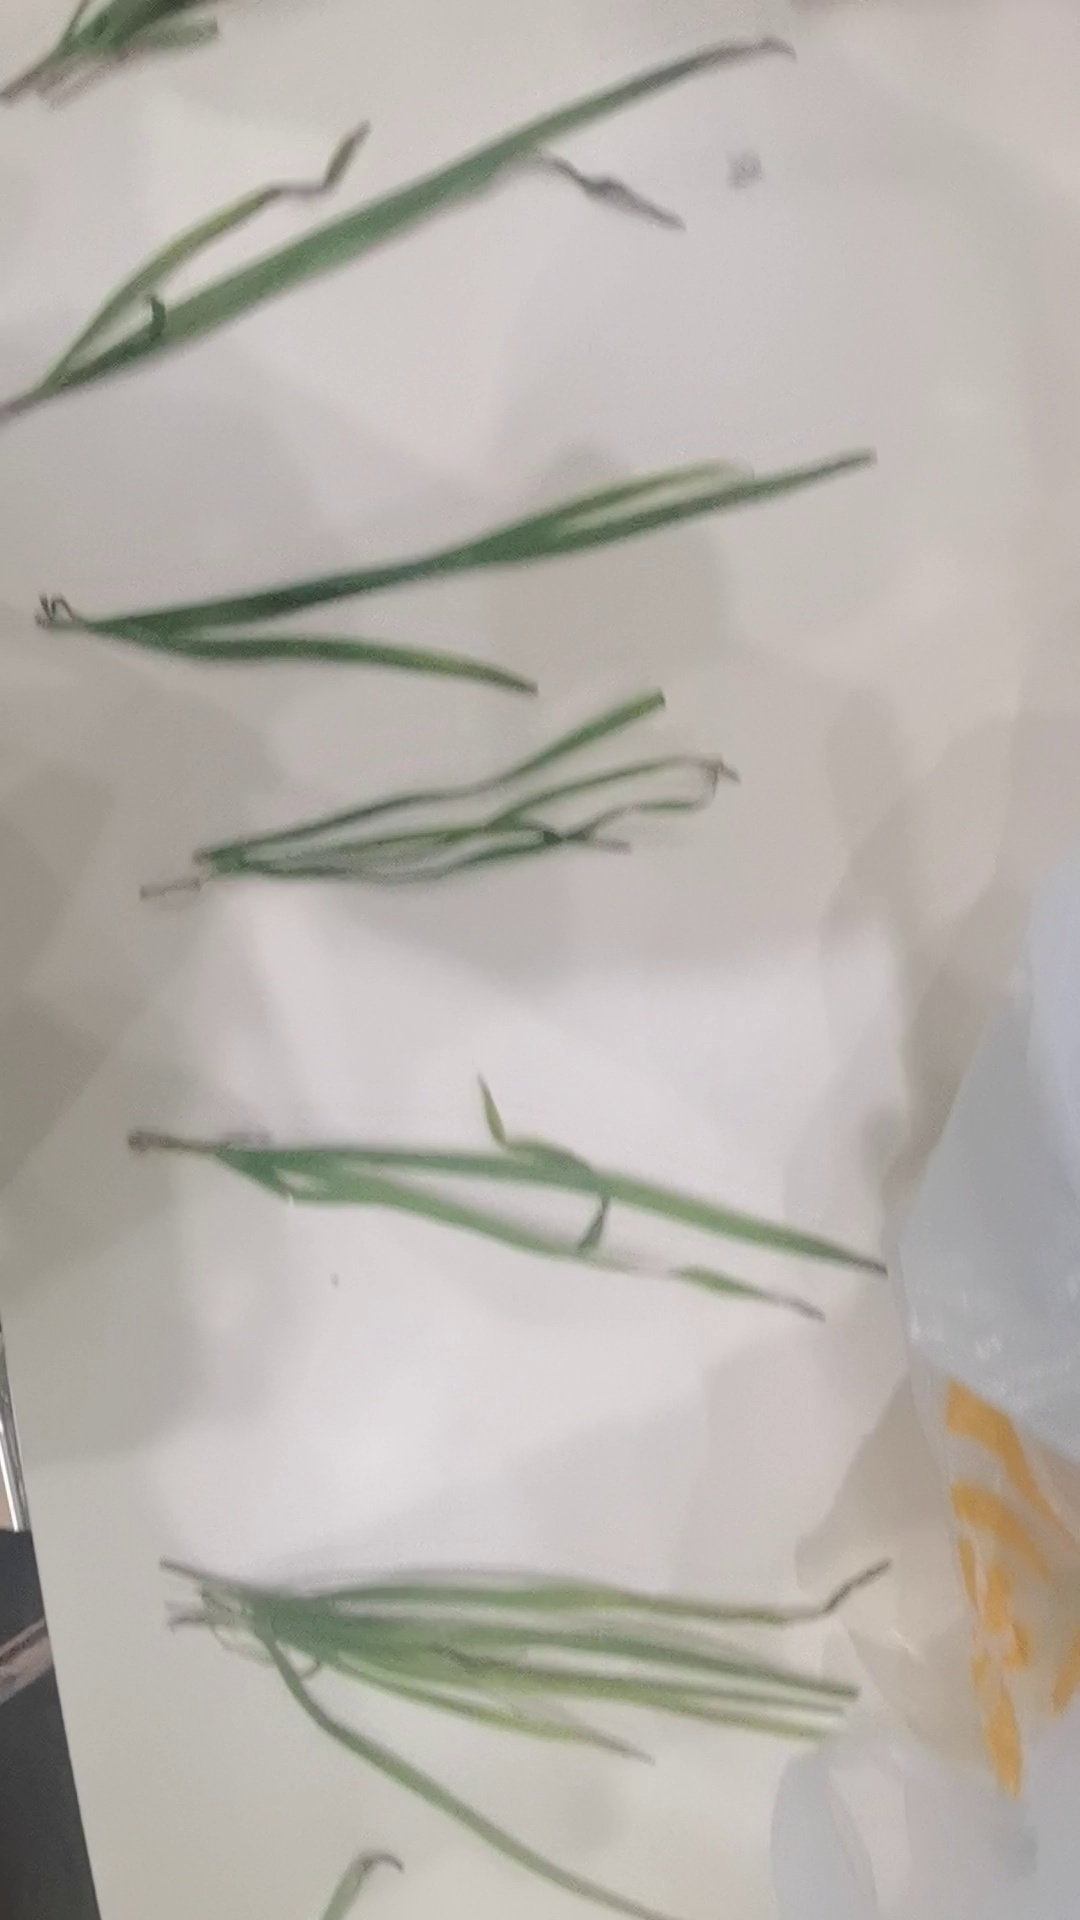chives: (24, 51, 828, 417), (165, 1545, 913, 1920), (20, 439, 924, 702), (120, 1095, 899, 1338), (123, 666, 731, 968), (1, 1, 233, 119)
